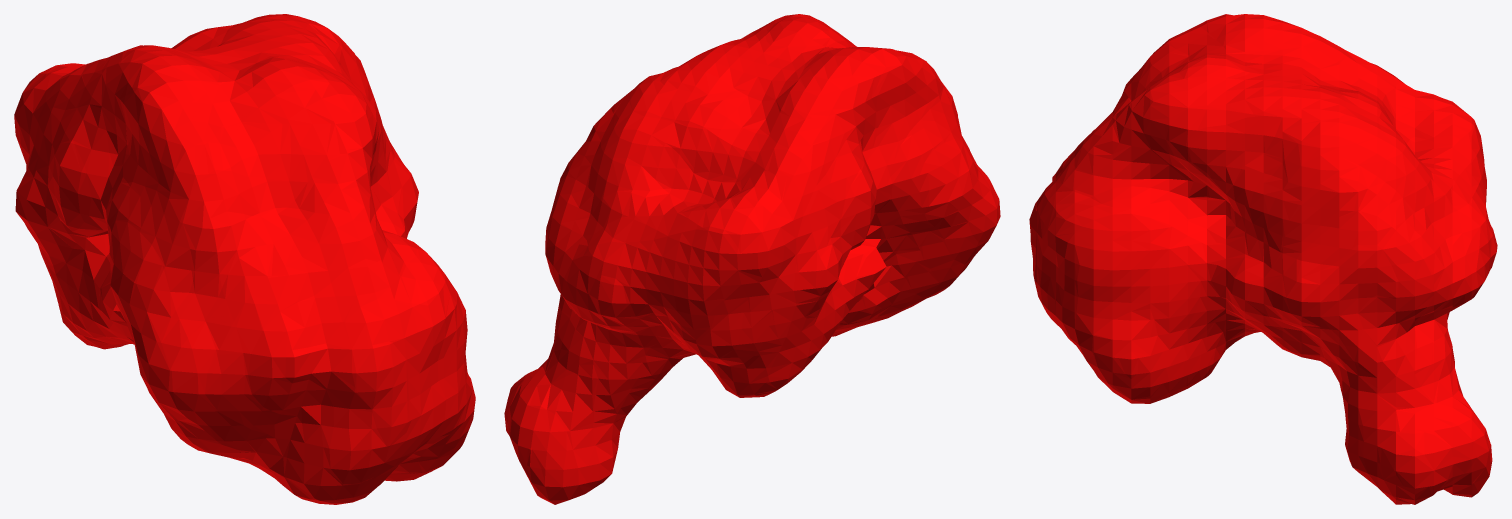
Rendered from sad_coarse.dae.
3 views of the same model, side by side, from view 1: azimuth 30°, elevation 25°; view 2: azimuth 150°, elevation 25°; view 3: azimuth 270°, elevation 25° (orthographic). The views are drawn at different scales.
Parts seen in each view (by area): view 1: sad; view 2: sad; view 3: sad.
Part boxes in pixels (left/top/right/bottom): sad: left=14, top=14, right=475, bottom=504; sad: left=504, top=14, right=1000, bottom=504; sad: left=1029, top=14, right=1497, bottom=504.
Bounding box in the file's own units: 55.49 × 64.52 × 70.05.
